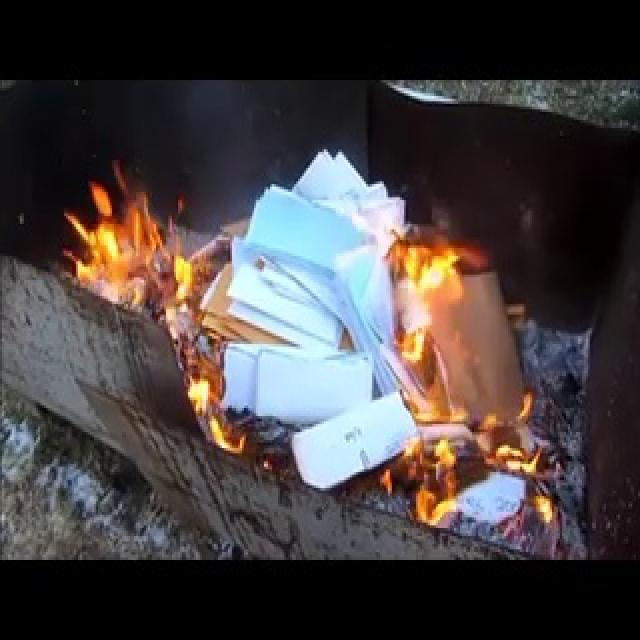fire: (372, 191, 494, 497), (49, 138, 211, 342)
